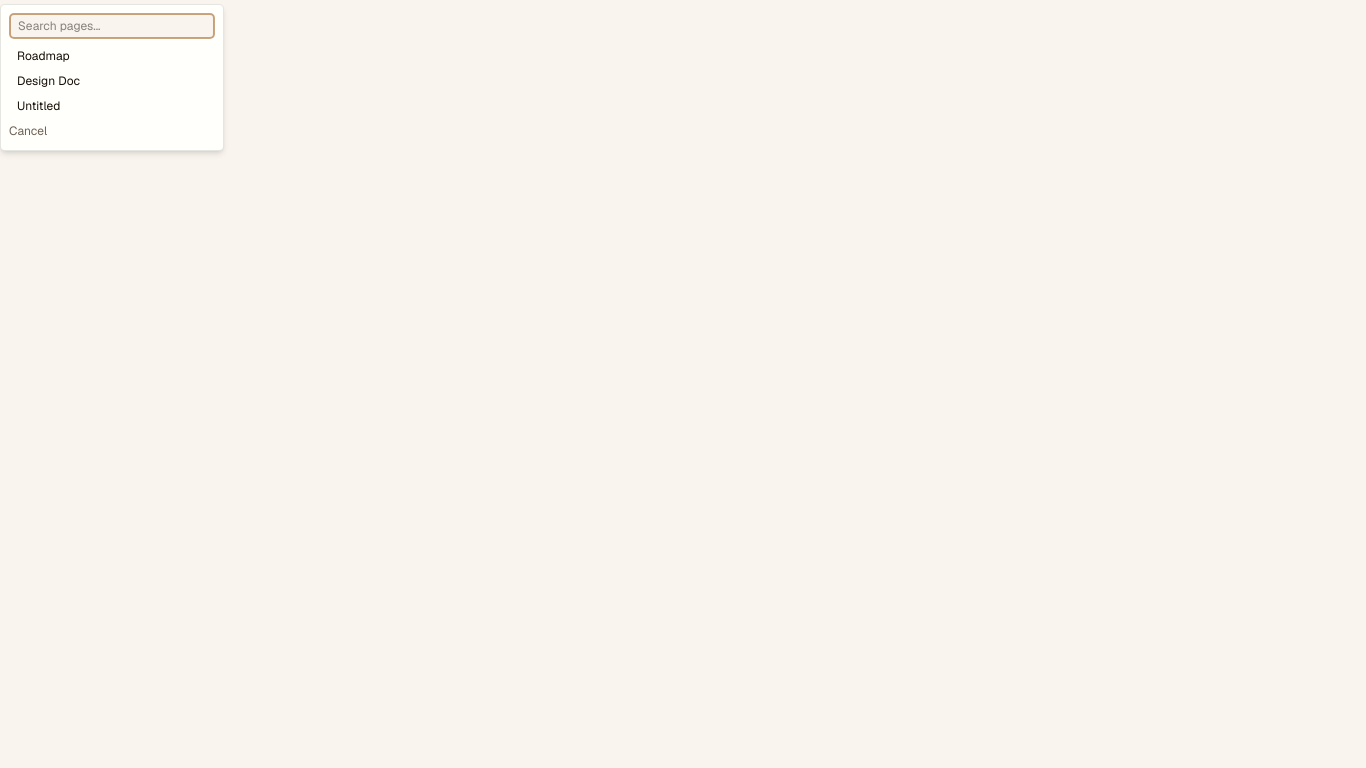
it: TodoAttachDocumentPicker › filters the list as the user types, case-insensitively
In the field labelled "Search pages": (112,26) [9,13,215,39], type "road"
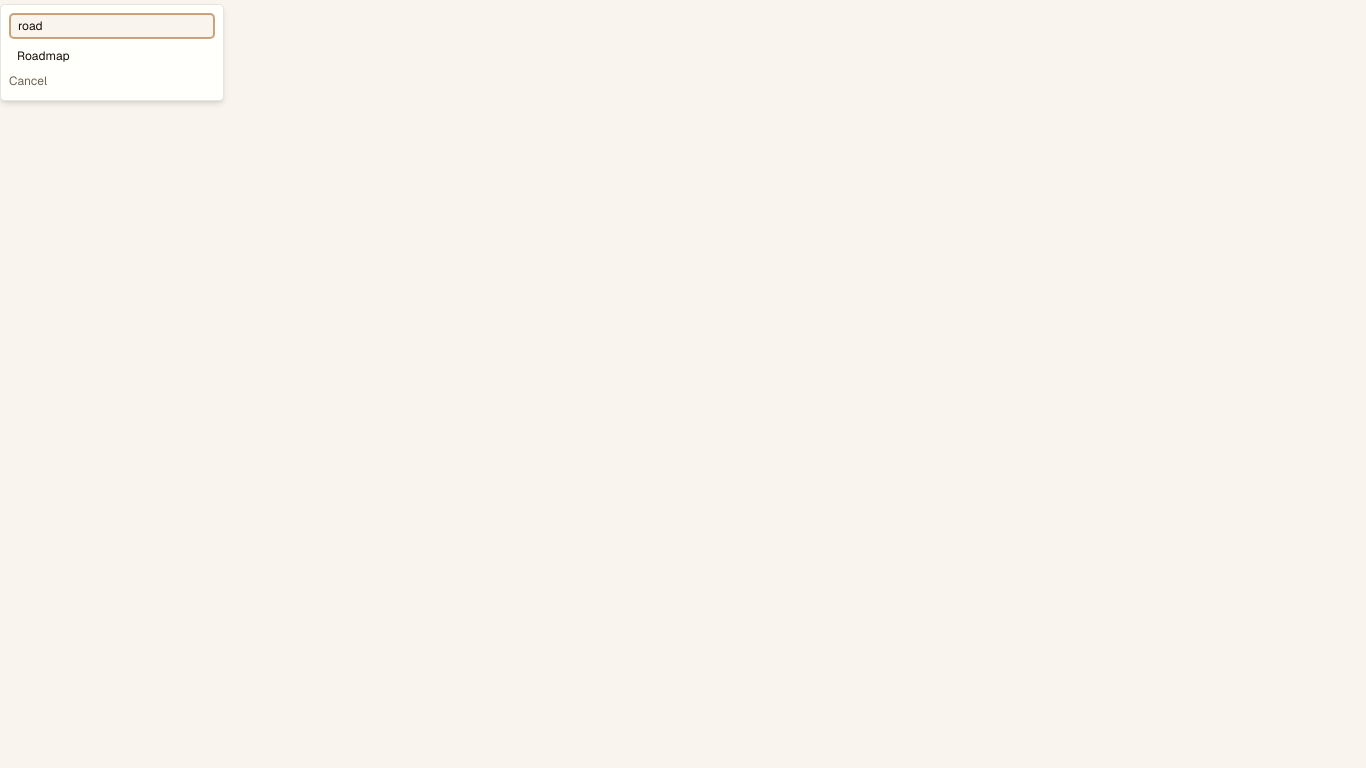
expect the button "Roadmap" is shown: met, box [9,44,215,68]
expect the button "Design Doc" is gone: met
